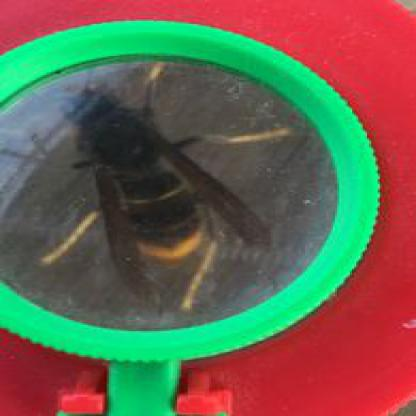Asian Hornet: (23, 58, 292, 300)
